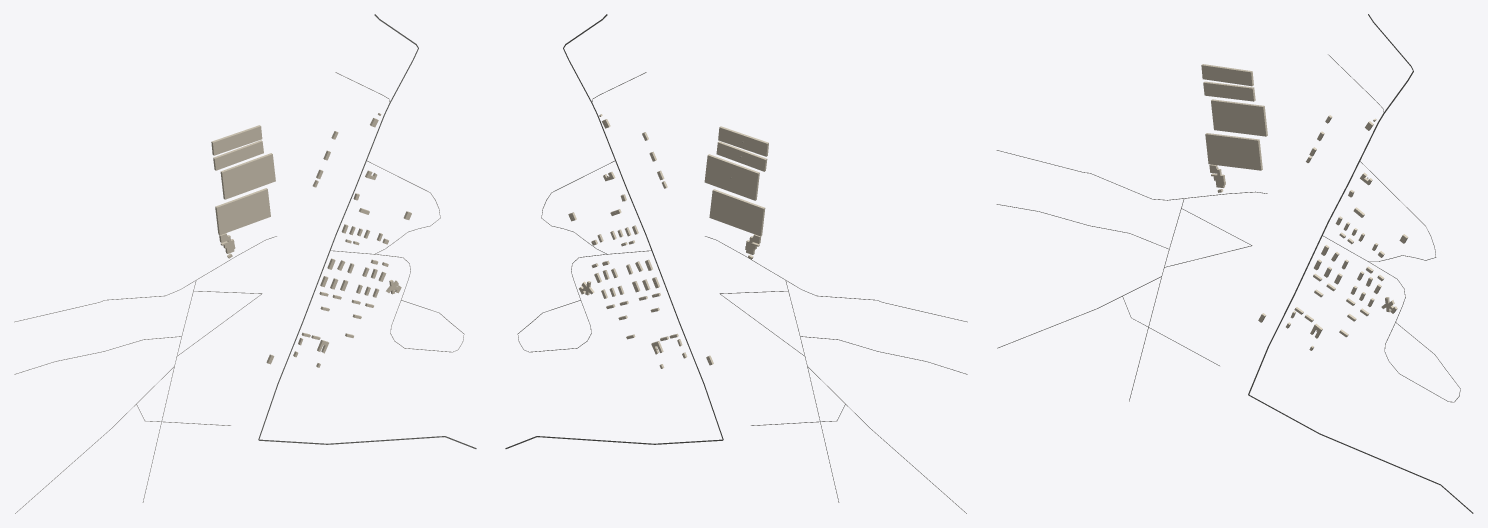
Rendered from historic-palestine-13_23_3549_3176.glb.
The picture shows the model from 3 angles, left to right: view 1: azimuth 30°, elevation 25°; view 2: azimuth 150°, elevation 25°; view 3: azimuth 330°, elevation 25°; orthographic projection. The views are drawn at different scales.
Visible parts, largest first — view 1: Building_.017, Building_.014, Road, Building_.015, Building_.016; view 2: Building_.017, Building_.014, Road, Building_.015, Building_.016; view 3: Building_.017, Building_.014, Building_.015, Road, Building_.016.
Part boxes in pixels (x1,y1,x2,y2): Building_.017: (215, 188, 270, 235); Building_.014: (220, 153, 275, 199); Road: (258, 14, 418, 439); Building_.015: (211, 125, 262, 155); Building_.016: (213, 140, 263, 170); Building_.017: (709, 189, 765, 236); Building_.014: (704, 154, 759, 200); Road: (563, 14, 723, 439); Building_.015: (718, 126, 768, 156); Building_.016: (716, 141, 767, 171); Building_.017: (1205, 133, 1262, 170); Building_.014: (1211, 99, 1267, 136); Building_.015: (1201, 64, 1253, 86); Road: (1248, 14, 1413, 394); Building_.016: (1203, 81, 1255, 101).
Bounding box in the file's own units: 1316 × 1251 × 8.7.
